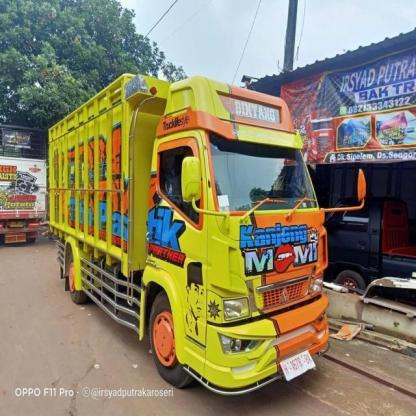truck: (47, 71, 369, 394), (1, 153, 50, 253)
